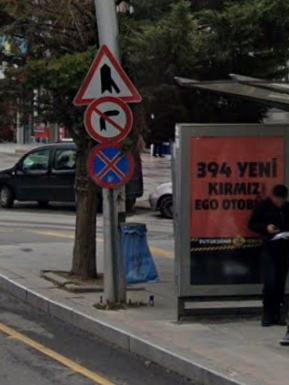rightturnsareforbidden: (84, 97, 133, 143)
